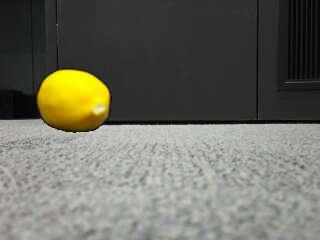lemon: (38, 69, 111, 131)
